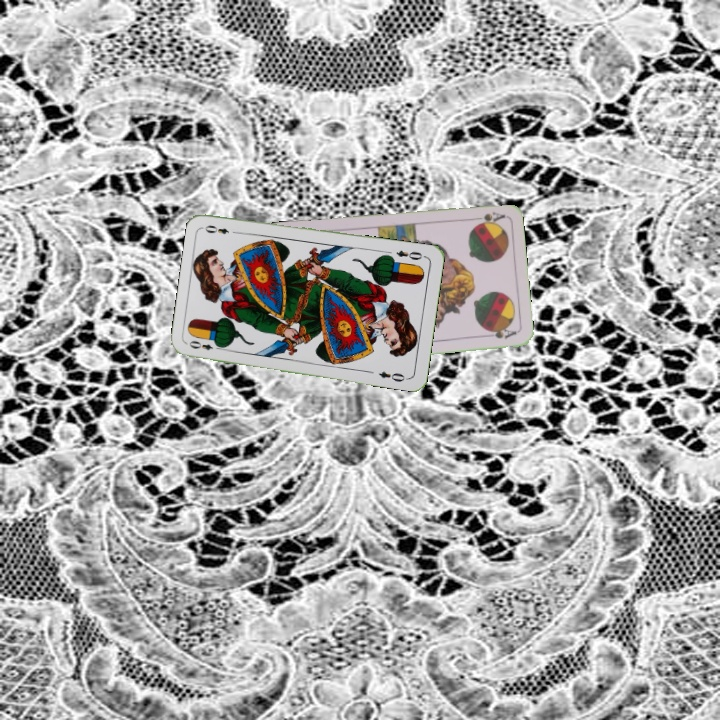EO: (185, 337, 225, 353), (392, 246, 428, 263)
SA: (466, 208, 507, 226)
